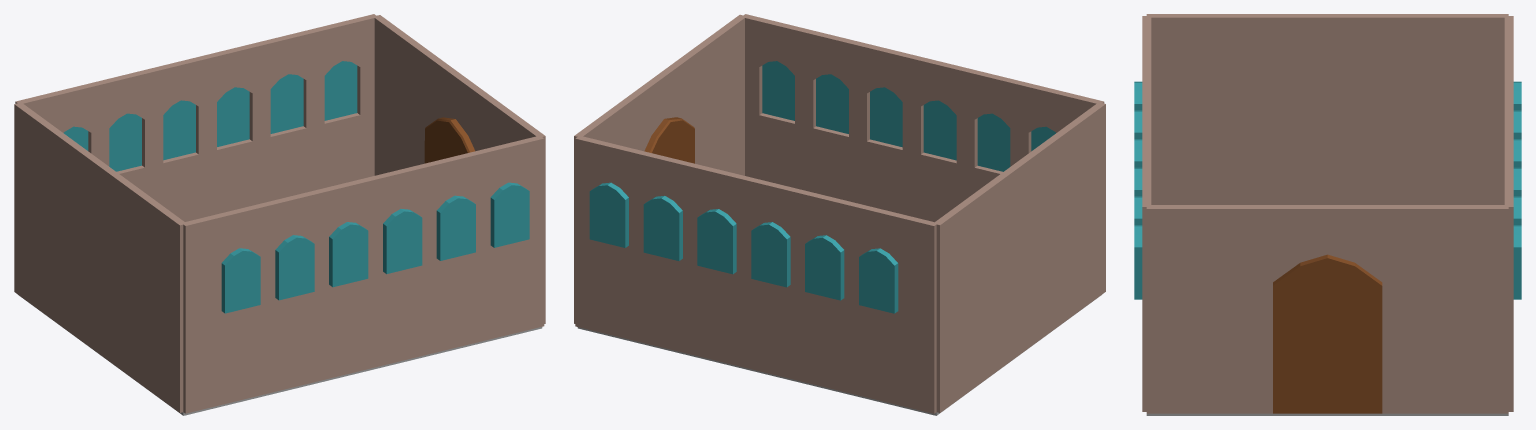
3 renders of one model, left to right at view 1: azimuth 30°, elevation 25°; view 2: azimuth 150°, elevation 25°; view 3: azimuth 270°, elevation 25°, orthographic. The views are drawn at different scales.
Visible parts, largest first — view 1: pCube24; view 2: pCube24; view 3: pCube24.
Part boxes in pixels (x1,y1,x2,y2): pCube24: (14, 14, 545, 415); pCube24: (574, 14, 1105, 415); pCube24: (1134, 14, 1521, 415).
Size of the model in its own units: 51.93 by 25.5 by 42.81.
